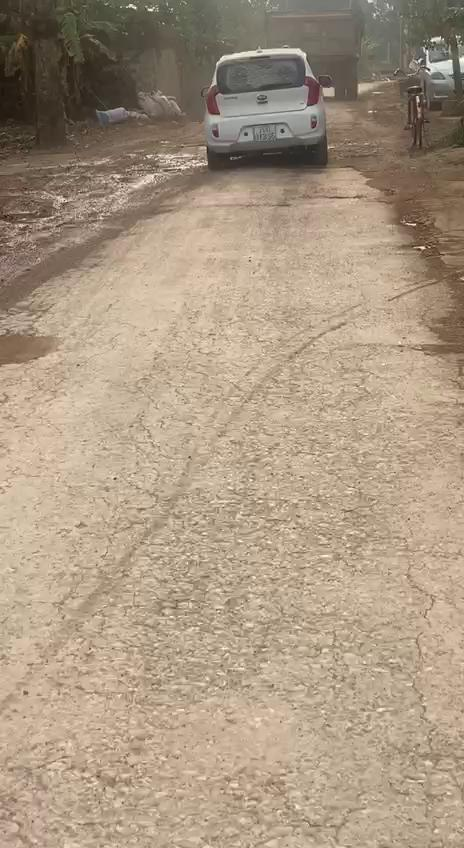pothole: (0, 329, 70, 370)
